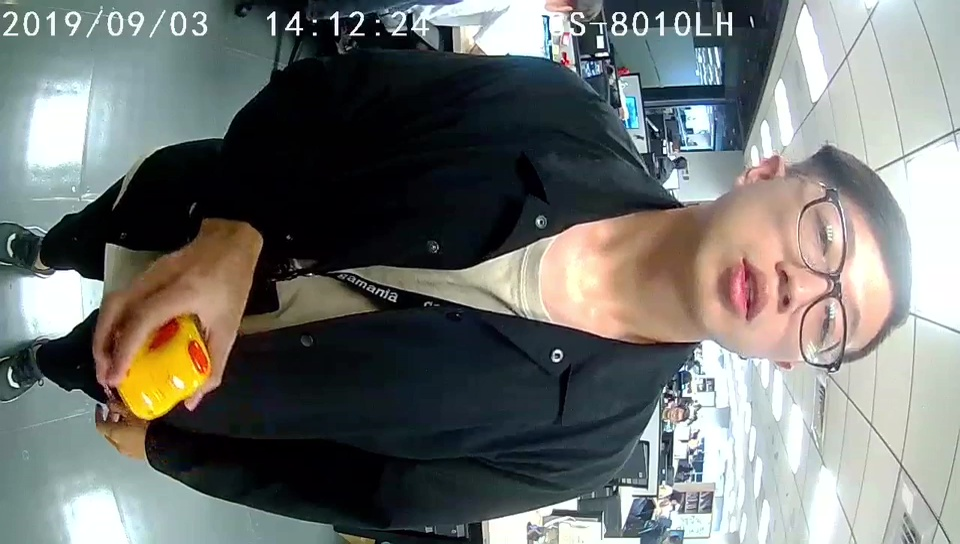car: (121, 313, 210, 422)
